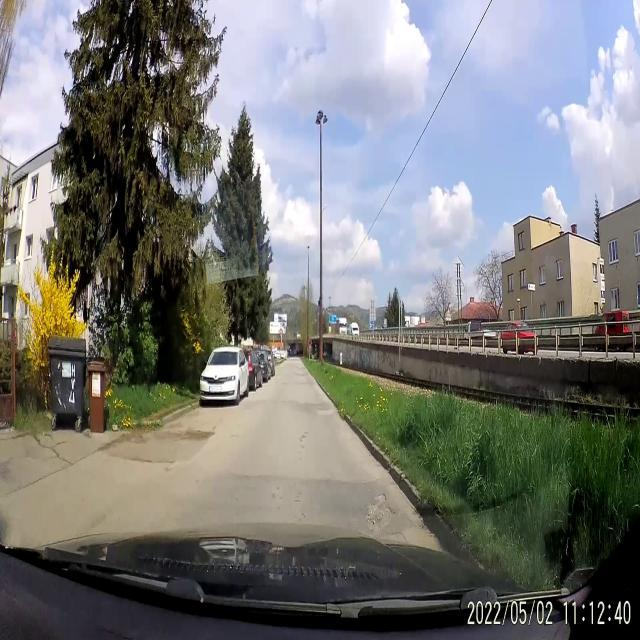Pothole: (360, 491, 394, 534)
